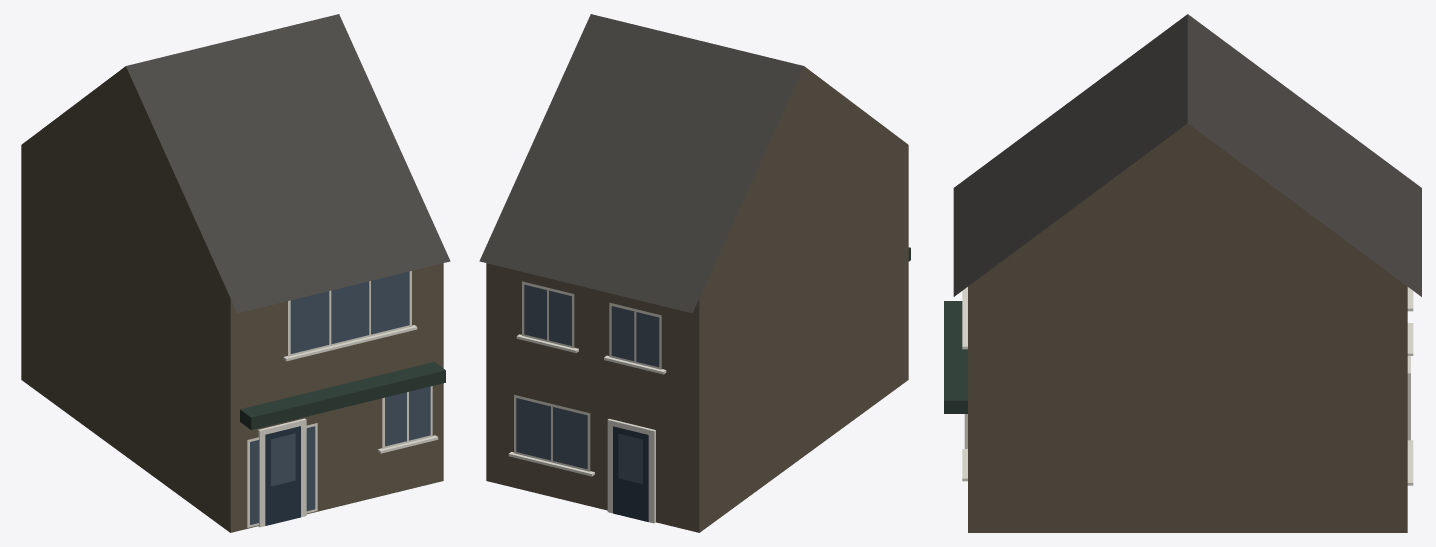
Rendered from nw-rowhouse-ribbon-fascia__green__2__gable__long__solid.glb.
The picture shows the model from 3 angles, left to right: view 1: azimuth 30°, elevation 25°; view 2: azimuth 150°, elevation 25°; view 3: azimuth 270°, elevation 25°; orthographic projection. The views are drawn at different scales.
Parts seen in each view (by area): view 1: nw-rowhouse-ribbon-fascia__green__2__gable__long__solid; view 2: nw-rowhouse-ribbon-fascia__green__2__gable__long__solid; view 3: nw-rowhouse-ribbon-fascia__green__2__gable__long__solid.
Part boxes in pixels (<box>): nw-rowhouse-ribbon-fascia__green__2__gable__long__solid: <box>21,14,450,532</box>; nw-rowhouse-ribbon-fascia__green__2__gable__long__solid: <box>479,14,910,532</box>; nw-rowhouse-ribbon-fascia__green__2__gable__long__solid: <box>944,14,1421,532</box>.
Bounding box in the file's own units: 5.37 × 9.39 × 9.93.
